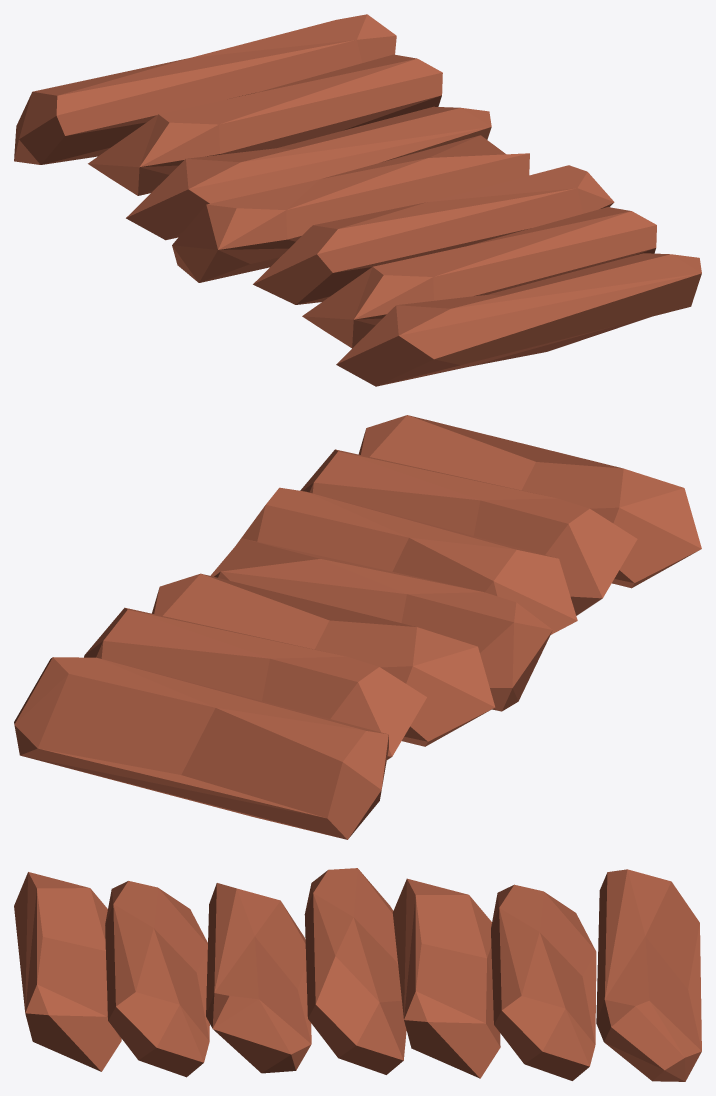
Rendered from Stairs (wood).fbx.
3 renders of one model, top to bottom at view 1: azimuth 30°, elevation 25°; view 2: azimuth 150°, elevation 25°; view 3: azimuth 270°, elevation 25°, orthographic. The views are drawn at different scales.
Visible parts, largest first — view 1: Wooden Stairs; view 2: Wooden Stairs; view 3: Wooden Stairs.
Part boxes in pixels (x1,y1,x2,y2): Wooden Stairs: [14, 14, 701, 386]; Wooden Stairs: [14, 415, 701, 839]; Wooden Stairs: [14, 868, 701, 1081].
Size of the model in its own units: 720 by 198 by 1289.
